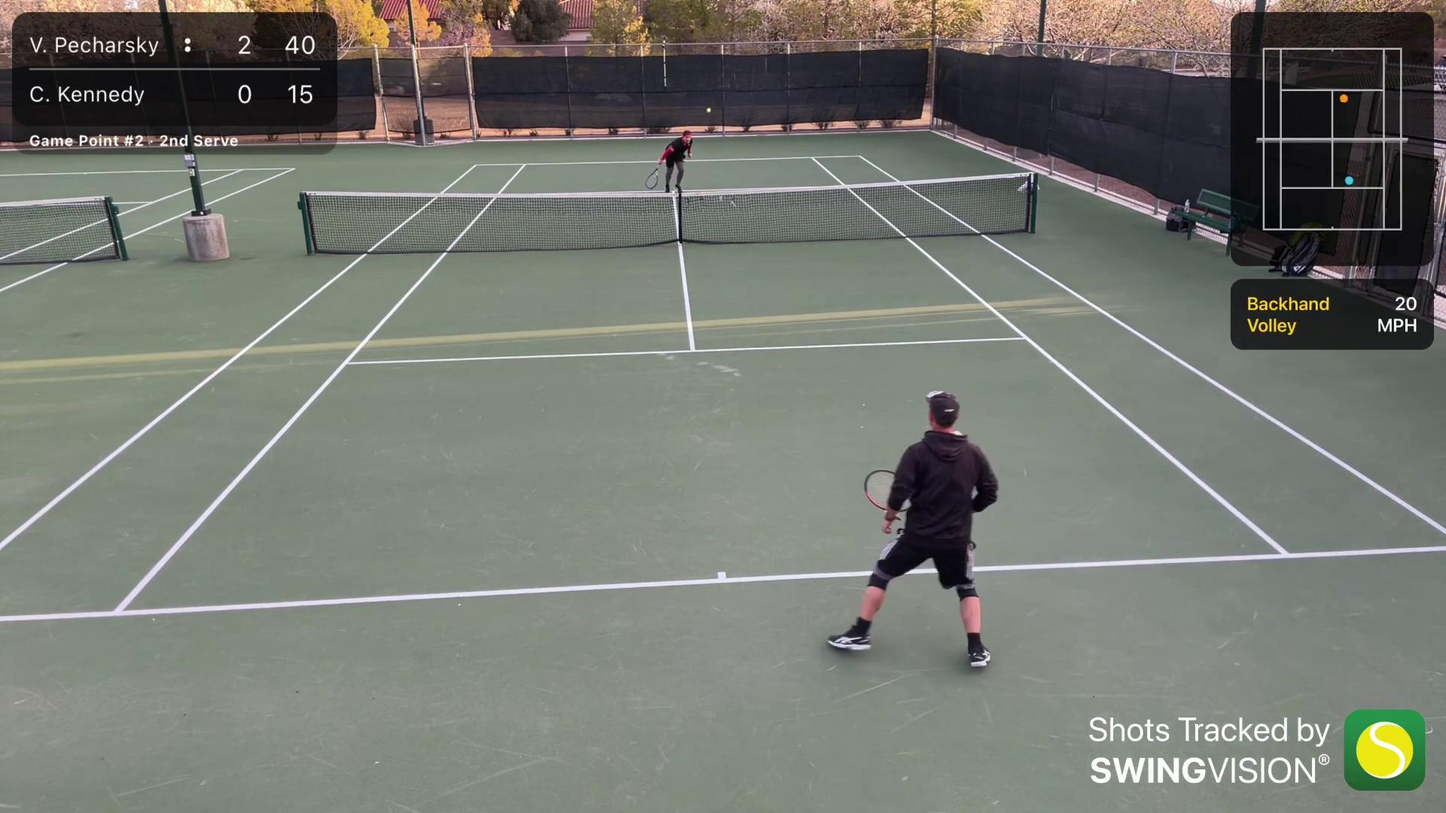ball: (705, 107, 712, 113)
